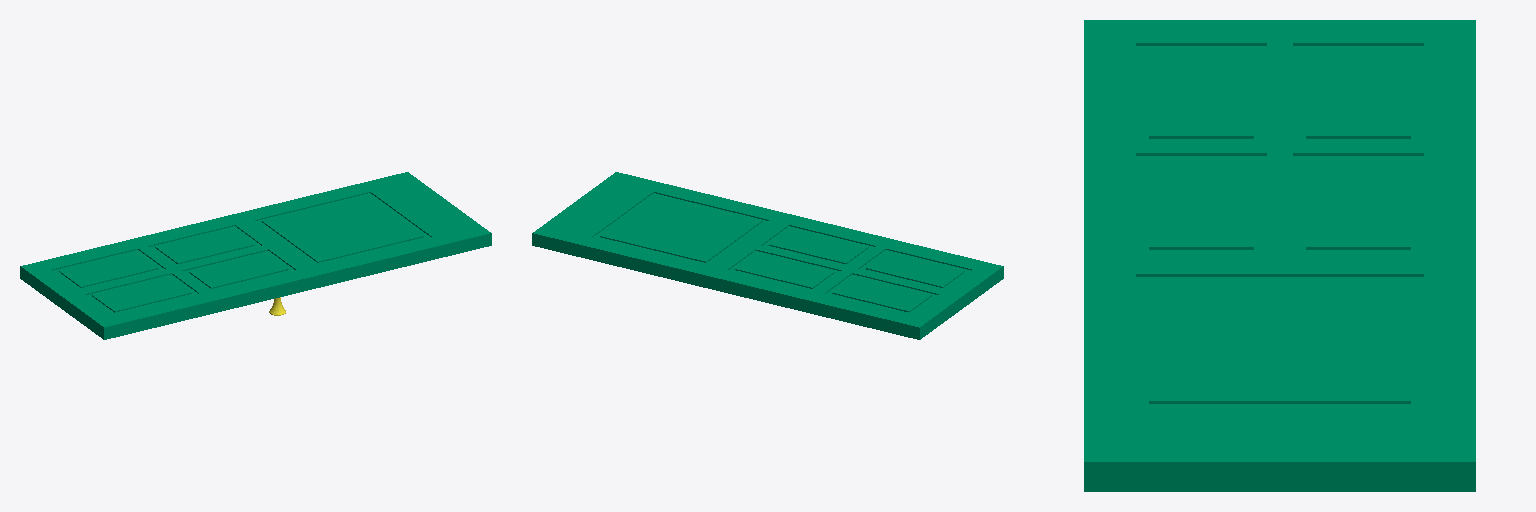
robot.urdf — right-pull-door:
<?xml version="1.0" ?>
<robot name="right-pull-door">
	<link name="base"/>
	<link name="link_0">
		<visual name="out-frame">
			<origin xyz="0 0 0"/>
			<geometry>
				<mesh filename="texture_dae/frame.dae" scale="1.0089492931858794 1.0089492931858794 1.0089492931858794"/>
			</geometry>
		</visual>
		<collision>
			<origin xyz="0 0 0"/>
			<geometry>
				<mesh filename="texture_dae/frame.dae" scale="1.0089492931858794 1.0089492931858794 1.0089492931858794"/>
			</geometry>
		</collision>
	</link>
	<joint name="joint_0" type="fixed">
		<origin rpy="1.570796326794897 0 -1.570796326794897" xyz="0 0 0"/>
		<child link="link_0"/>
		<parent link="base"/>
	</joint>
	<link name="link_1">
		<visual name="surf-board">
			<origin xyz="0.3182756683041431 -0.833750704087386 0"/>
			<geometry>
				<mesh filename="texture_dae/board.dae" scale="1.0089492931858794 1.0089492931858794 1.0089492931858794"/>
			</geometry>
		</visual>
		<collision>
			<origin xyz="0.3182756683041431 -0.833750704087386 0"/>
			<geometry>
				<mesh filename="texture_dae/board.dae" scale="1.0089492931858794 1.0089492931858794 1.0089492931858794"/>
			</geometry>
		</collision>
	</link>
	<joint name="joint_1" type="revolute">
		<origin xyz="-0.3182756683041431 0.833750704087386 0"/>
		<axis xyz="0 -1 0"/>
		<child link="link_1"/>
		<parent link="link_0"/>
		<limit lower="0" upper="1.5079644737231006"/>
	</joint>
	<link name="link_2">
		<visual name="handle">
			<origin xyz="0 0 0"/>
			<geometry>
				<mesh filename="texture_dae/9962027.dae" scale="2.023072413517082 2.023072413517082 2.023072413517082"/>
			</geometry>
		</visual>
		<collision>
			<origin xyz="0 0 0"/>
			<geometry>
				<mesh filename="texture_dae/9962027.dae" scale="2.023072413517082 2.023072413517082 2.023072413517082"/>
			</geometry>
		</collision>
	</link>
	<joint name="joint_2" type="revolute">
		<origin xyz="0.5570919327020465 -0.8989121653294014 0.02694178699900141"/>
		<child link="link_2"/>
		<parent link="link_1"/>
		<axis xyz="0 0 1"/>
		<limit lower="0" upper="1.5079644737231006"/>
	</joint>
</robot>

--- Render facts (derived) ---
Views: 3 orthographic renders of the robot side by side, from view 1: azimuth 30°, elevation 25°; view 2: azimuth 150°, elevation 25°; view 3: azimuth 270°, elevation 25°.
Model right-pull-door with 4 links and 3 joints (2 revolute, 1 fixed), rooted at base, posed every joint at zero.
Links seen in each view (by area): view 1: link_1; view 2: link_1; view 3: link_1.
Boxes of the visible links, bbox=[...] form: link_1: bbox=[20, 172, 491, 339]; link_1: bbox=[532, 172, 1003, 339]; link_1: bbox=[1084, 20, 1475, 491].
Bounding box of the posed robot: 1.7 × 0.6371 × 0.1563 m (x, y, z).
Meshes: 3 distinct files referenced, 2 mesh visuals loaded (2 Collada DAE); not drawn: 1 (reference not matched to a file when rendering).
